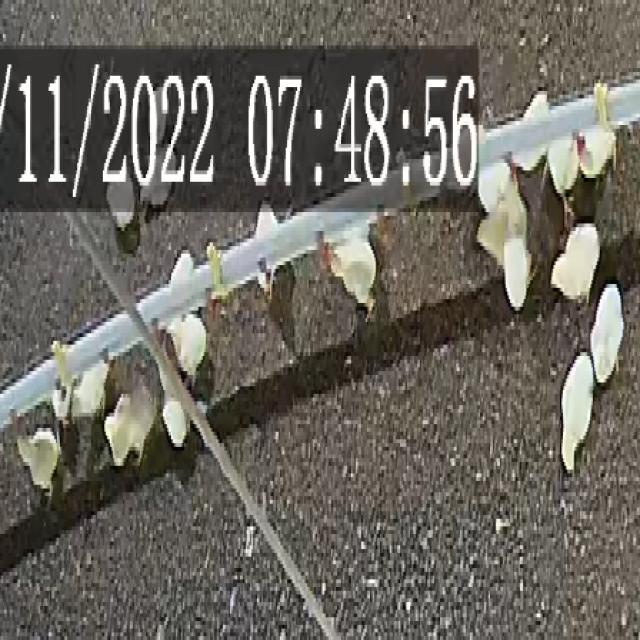broiler: (104, 379, 156, 462), (477, 178, 526, 265), (561, 352, 593, 470), (329, 235, 376, 311), (551, 223, 599, 295), (579, 83, 616, 174), (590, 284, 623, 379), (17, 428, 60, 492), (166, 314, 206, 379), (503, 235, 530, 307), (73, 360, 109, 413), (547, 133, 577, 193), (477, 159, 510, 208), (161, 398, 187, 443), (523, 91, 549, 117), (517, 151, 541, 167)
pipe: (221, 159, 439, 280), (480, 98, 594, 155), (139, 261, 210, 322), (70, 314, 140, 371), (0, 360, 57, 428), (611, 80, 639, 117)
